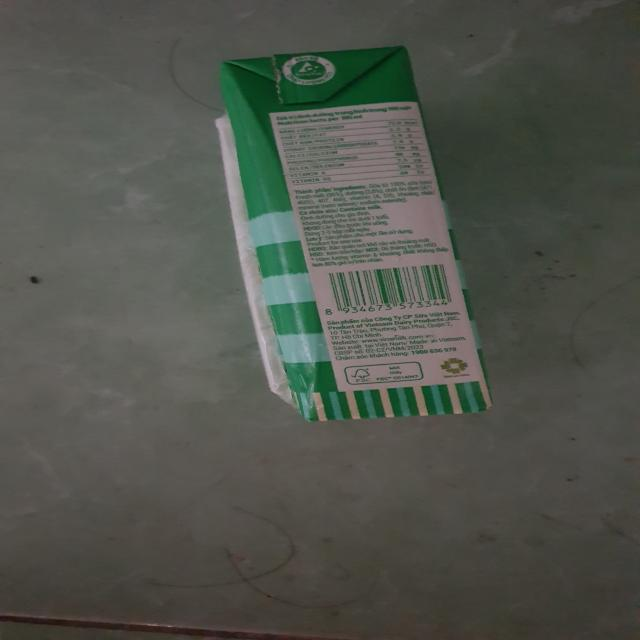Vina: (221, 44, 495, 441)
